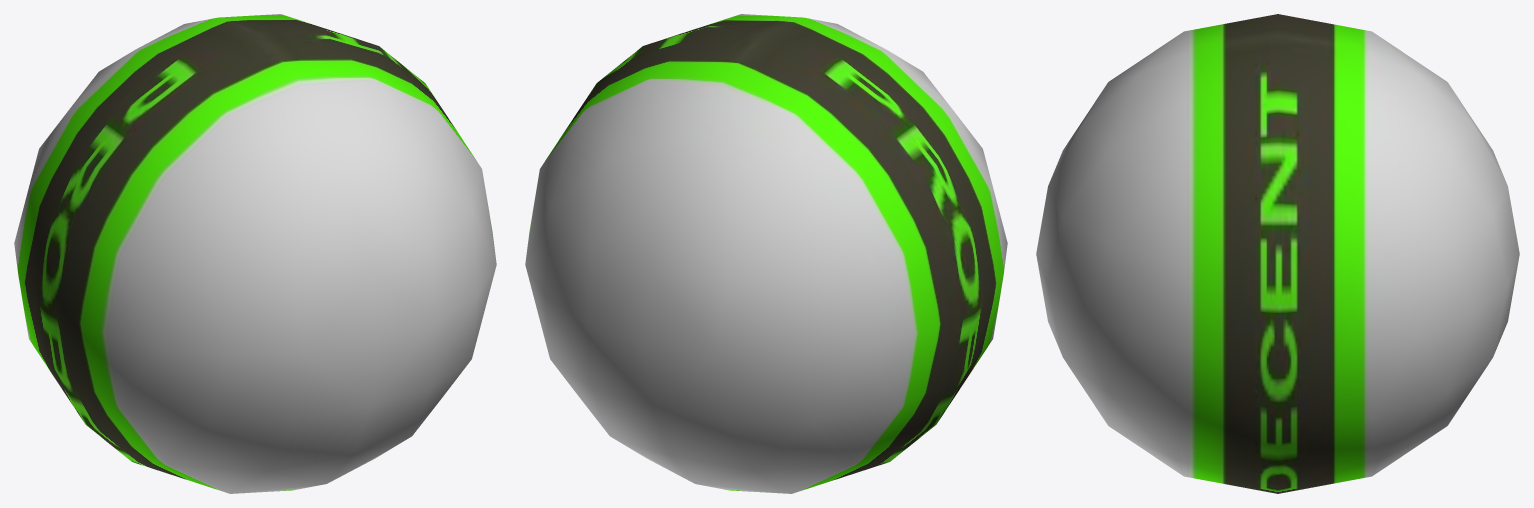
The model's file is ball.glb.
3 renders of one model, left to right at view 1: azimuth 30°, elevation 25°; view 2: azimuth 150°, elevation 25°; view 3: azimuth 270°, elevation 25°, orthographic.
Visible parts, largest first — view 1: ball; view 2: ball; view 3: ball.
Part boxes in pixels (box(x1,y1,x2,y2)): ball: box(14, 14, 496, 493); ball: box(525, 14, 1007, 493); ball: box(1036, 14, 1519, 493).
Size of the model in its own units: 0.22 by 0.22 by 0.22.
1 material, 1 textured.
